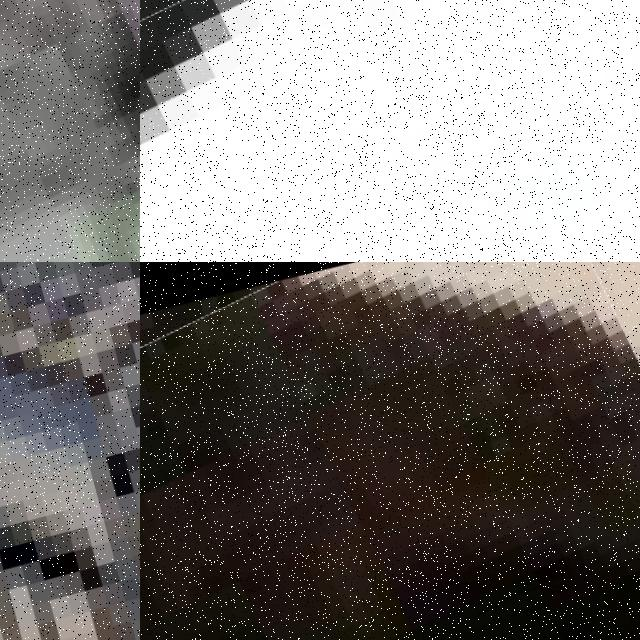drone: (140, 262, 640, 640), (140, 0, 640, 262), (0, 0, 140, 262)
